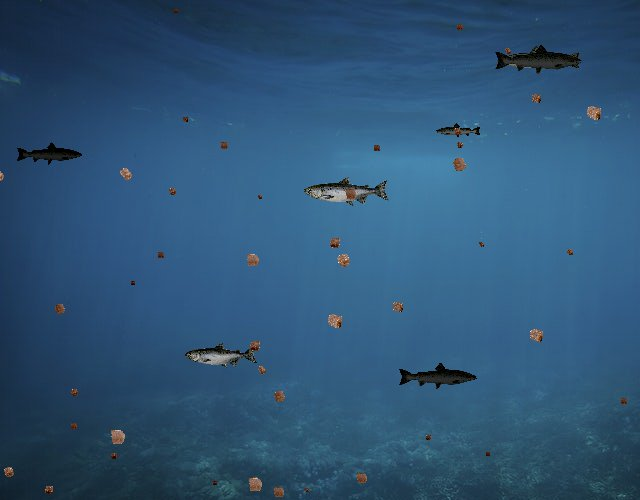Fish: (494, 43, 584, 76), (496, 44, 582, 75), (304, 176, 390, 207), (397, 361, 478, 390), (185, 343, 258, 369), (16, 141, 84, 166), (436, 122, 483, 139)
Pellet: (102, 422, 132, 452), (239, 247, 266, 274), (243, 335, 266, 357), (0, 461, 20, 483), (369, 141, 384, 155), (179, 114, 192, 127)
